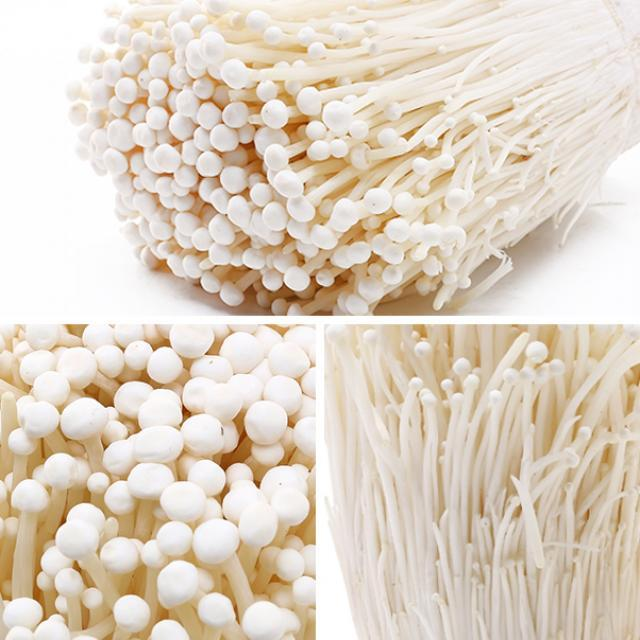Flammulina velutiper: (70, 3, 640, 314), (3, 322, 316, 640), (323, 325, 637, 640)
